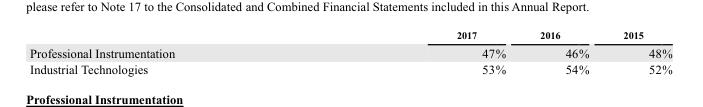table: (28, 29, 671, 75)
table column: (28, 29, 315, 75), (315, 29, 522, 75), (522, 29, 605, 75), (605, 29, 671, 75)
table column header: (28, 29, 671, 43)
table row: (28, 43, 671, 60), (28, 60, 671, 75), (28, 29, 671, 43)
